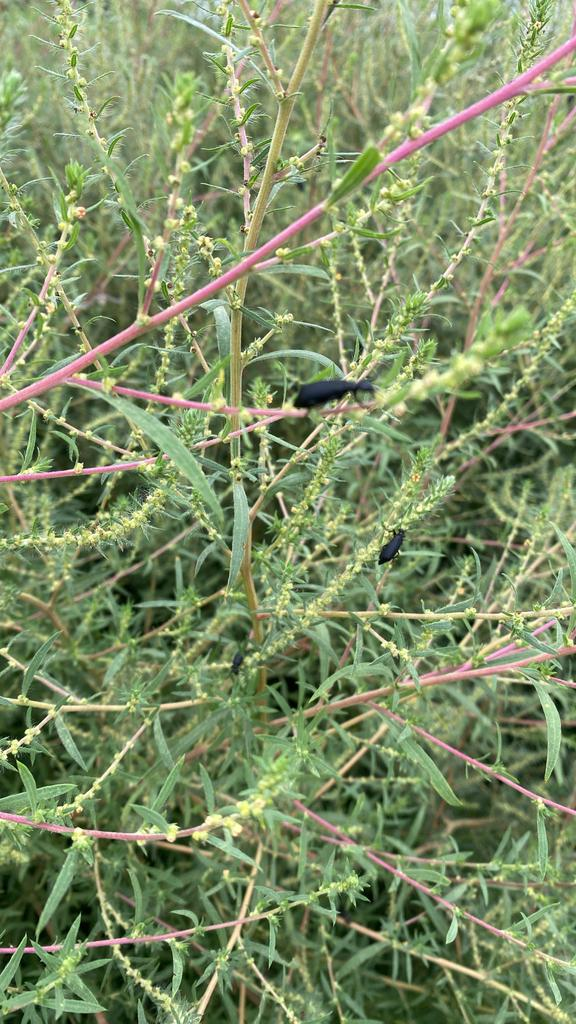blister_beetle: (278, 350, 393, 428), (366, 514, 413, 576)
